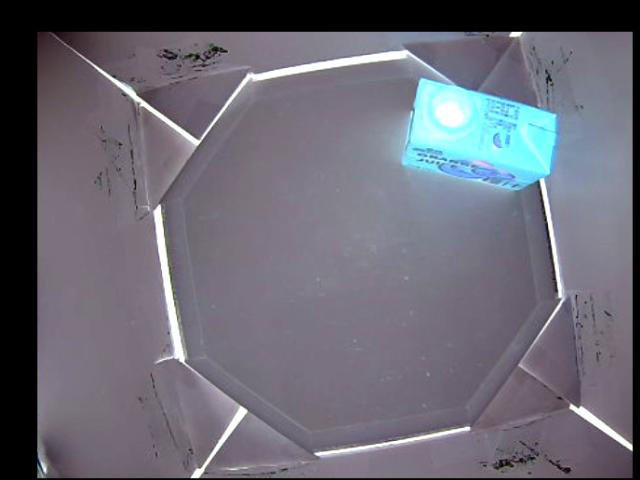Bottle: (401, 79, 559, 188)
